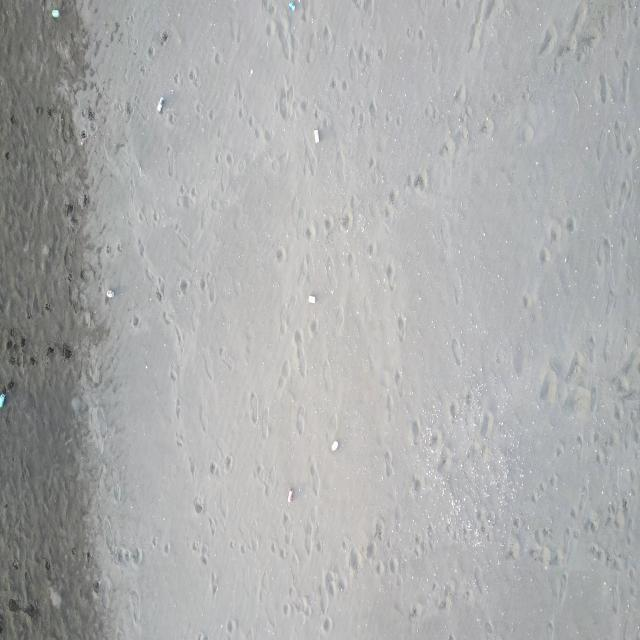Garbage: (156, 96, 163, 111), (313, 128, 319, 143), (105, 288, 114, 298), (51, 8, 59, 18), (288, 0, 295, 11), (287, 488, 292, 502), (307, 295, 315, 303), (0, 392, 4, 407), (331, 441, 337, 451)
